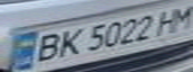0: (103, 18, 127, 51)
2: (133, 11, 163, 44), (118, 15, 145, 47)
5: (84, 20, 109, 53)
B: (24, 29, 66, 65)
H: (151, 4, 187, 36)
K: (51, 26, 87, 60)
M: (166, 0, 193, 33)
